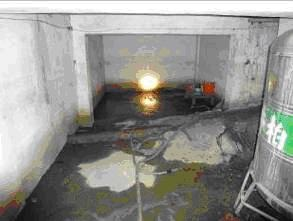water_tower: (235, 29, 293, 217)
